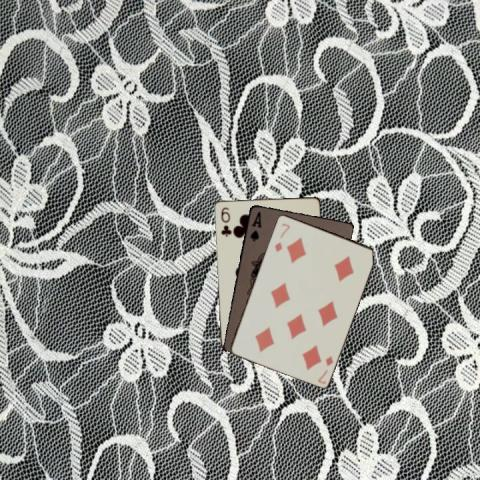6c: (218, 204, 232, 238)
7d: (271, 220, 292, 253), (314, 353, 334, 385)
As: (246, 208, 262, 243)
